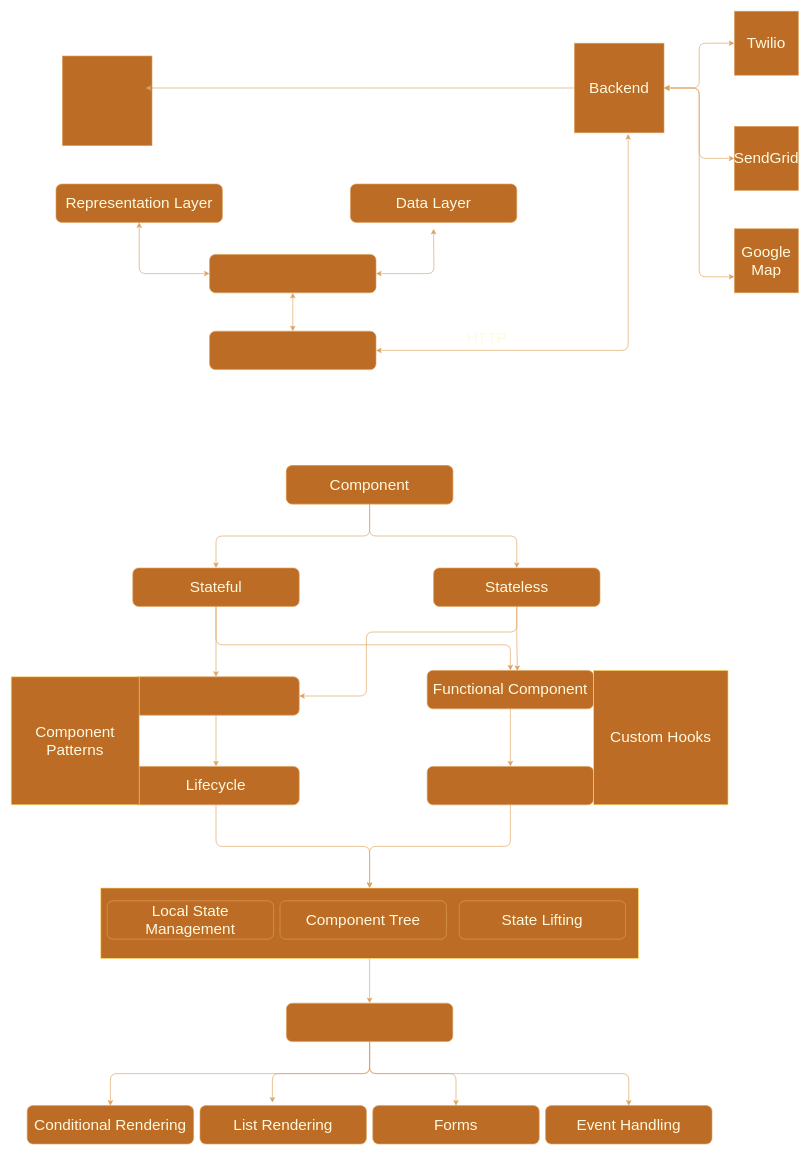
The diagram is 810 pixels wide and 1155 high, and some of its shapes have lost their labels. Here are the shapes that lost their labels. From the top down, the centre of each, then its label:
the point at 107,100: Frontend
the point at 292,273: Logical Layer
the point at 292,350: Network Layer
the point at 215,695: Class Component
the point at 510,785: Hooks
the point at 369,1022: JSX
